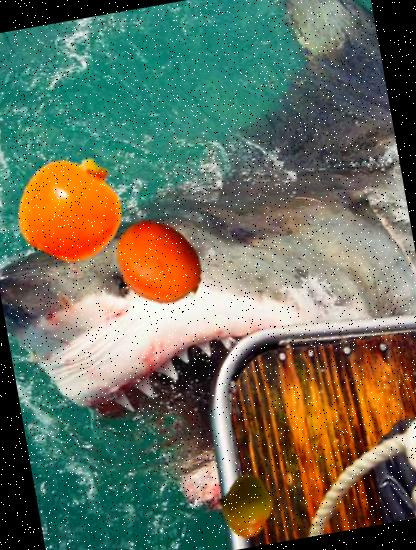Apple: (208, 468, 282, 542)
Apricot: (106, 210, 211, 316)
Physalis: (11, 145, 134, 268)
